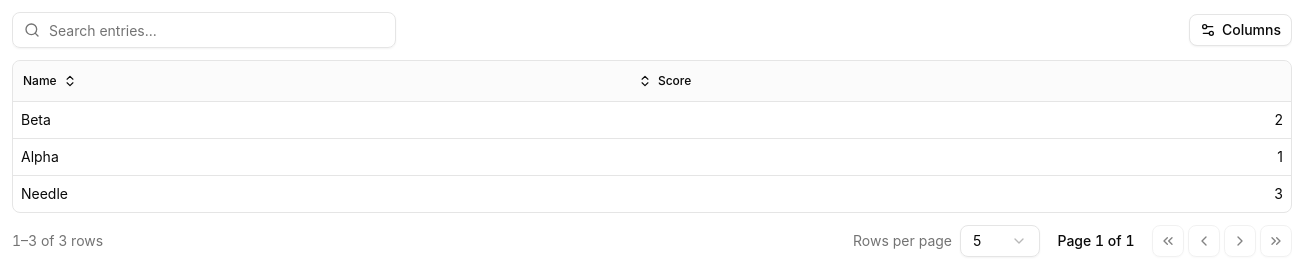
Test: DataTable › sorts and searches rows
Expected: the text "Beta" is shown, left=13, top=101, right=620, bottom=138
Click the button with aria-label "Sort by Name" at (50, 81), box left=13, top=65, right=87, bottom=97
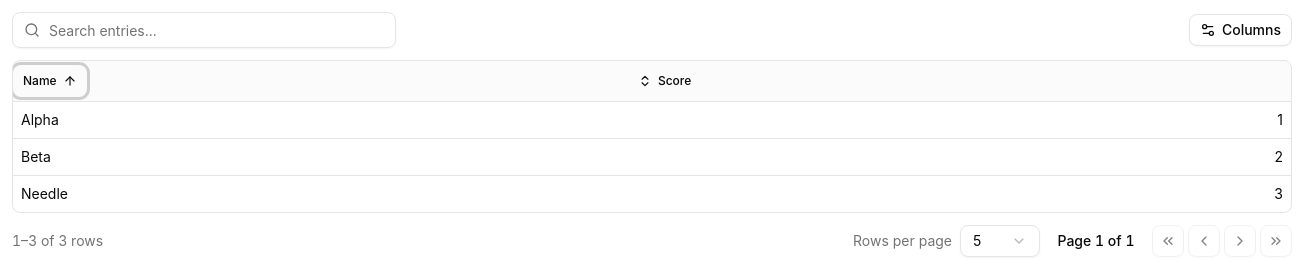
Expected: the text "Alpha" is shown, left=13, top=101, right=620, bottom=138
Type "needle" into the search field labelled "Search entries" at (204, 30), box left=12, top=12, right=396, bottom=48
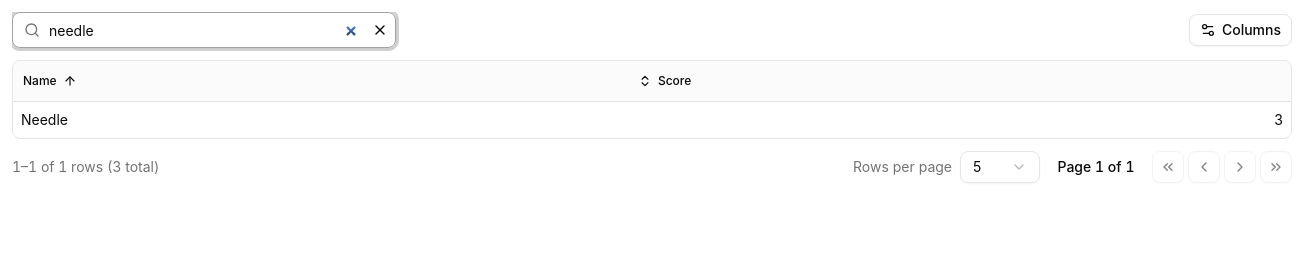
Expected: the text "Needle" is shown, left=13, top=101, right=620, bottom=138
Expected: the number of rows is 2, left=13, top=61, right=1291, bottom=101; left=13, top=101, right=1291, bottom=138
Expected: the text "1–1 of 1 rows (3 total)" is shown, left=12, top=156, right=159, bottom=176
